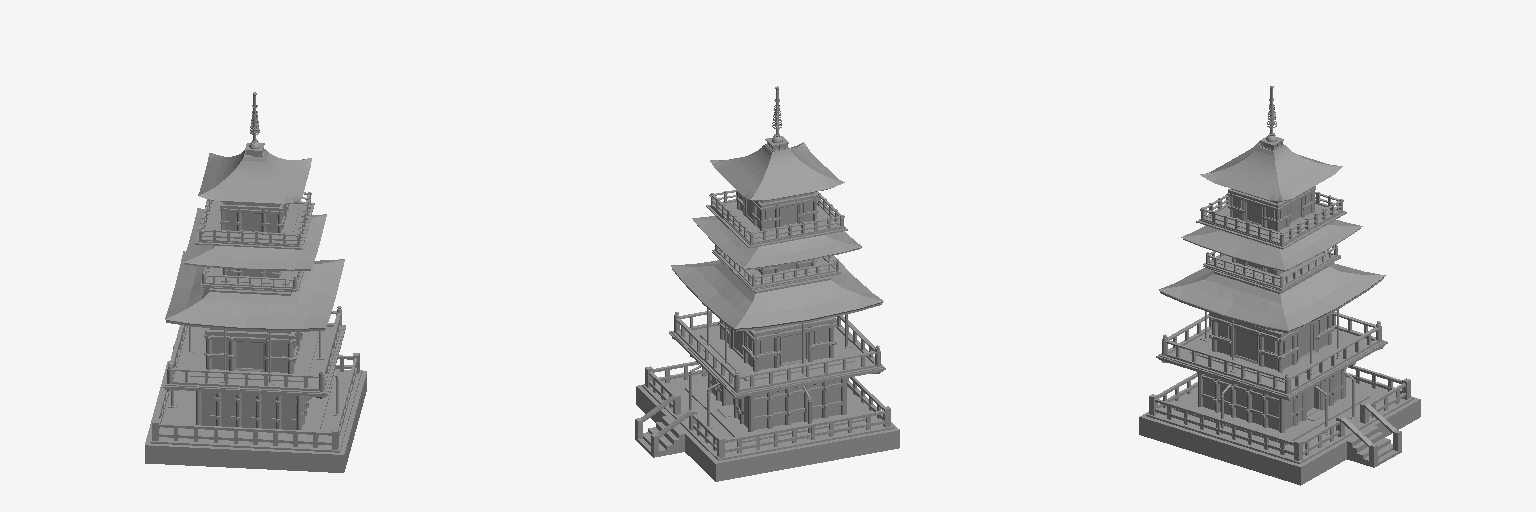
The model's file is temple2.obj.
3 renders of one model, left to right at view 1: azimuth 30°, elevation 25°; view 2: azimuth 150°, elevation 25°; view 3: azimuth 270°, elevation 25°, orthographic.
Visible parts, largest first — view 1: Japanese_Shrine_Cylinder.030; view 2: Japanese_Shrine_Cylinder.030; view 3: Japanese_Shrine_Cylinder.030.
Boxes of the visible parts, box(x1,y1,x2,y2) form: Japanese_Shrine_Cylinder.030: box(145, 92, 366, 472); Japanese_Shrine_Cylinder.030: box(635, 86, 899, 481); Japanese_Shrine_Cylinder.030: box(1139, 86, 1420, 485).
Bounding box in the file's own units: 10.61 × 14.18 × 10.61.